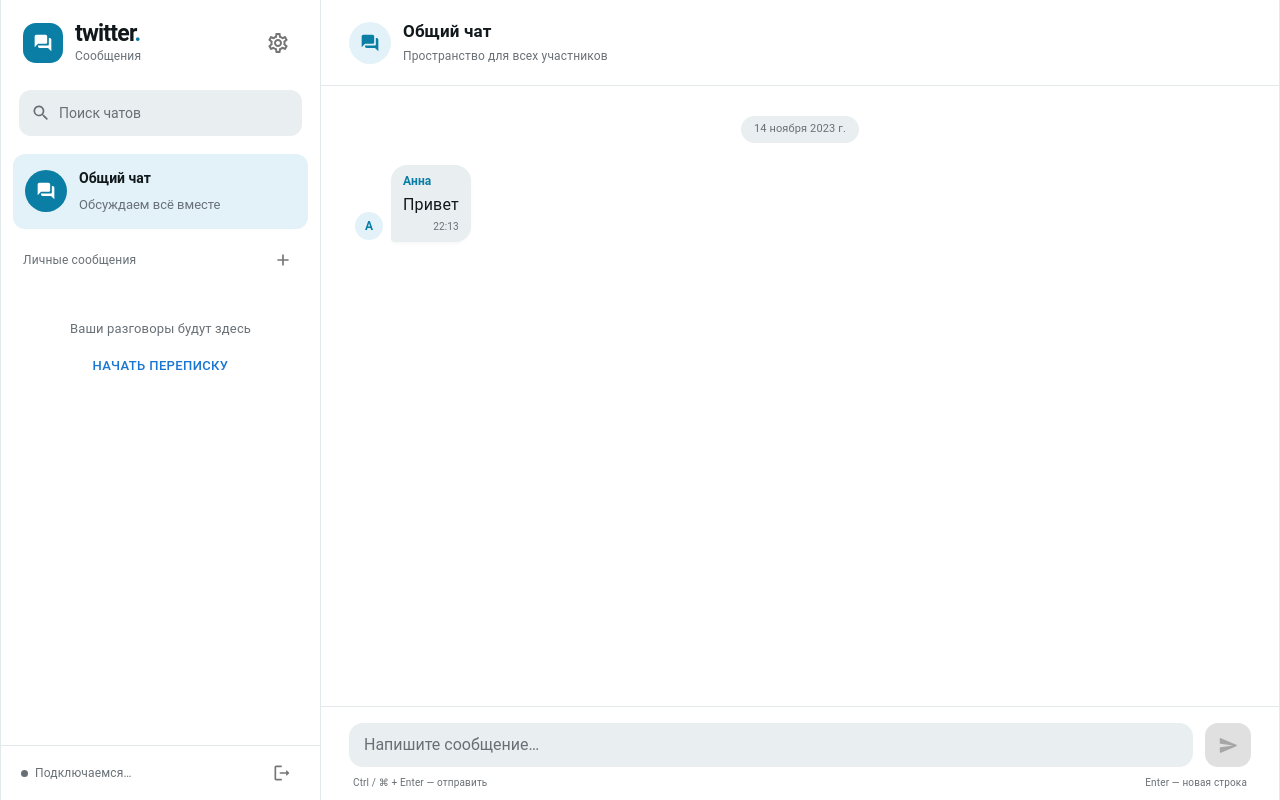
Test: shows pending messages immediately, preserves the next draft and retries a failed bubble
The image size is (1280, 800).
Check: the text "Привет" is shown, box [403,192,459,216]
Type "Сразу в чате" into the text box labelled "сообщение" at (771, 745), box [349,723,1193,767]
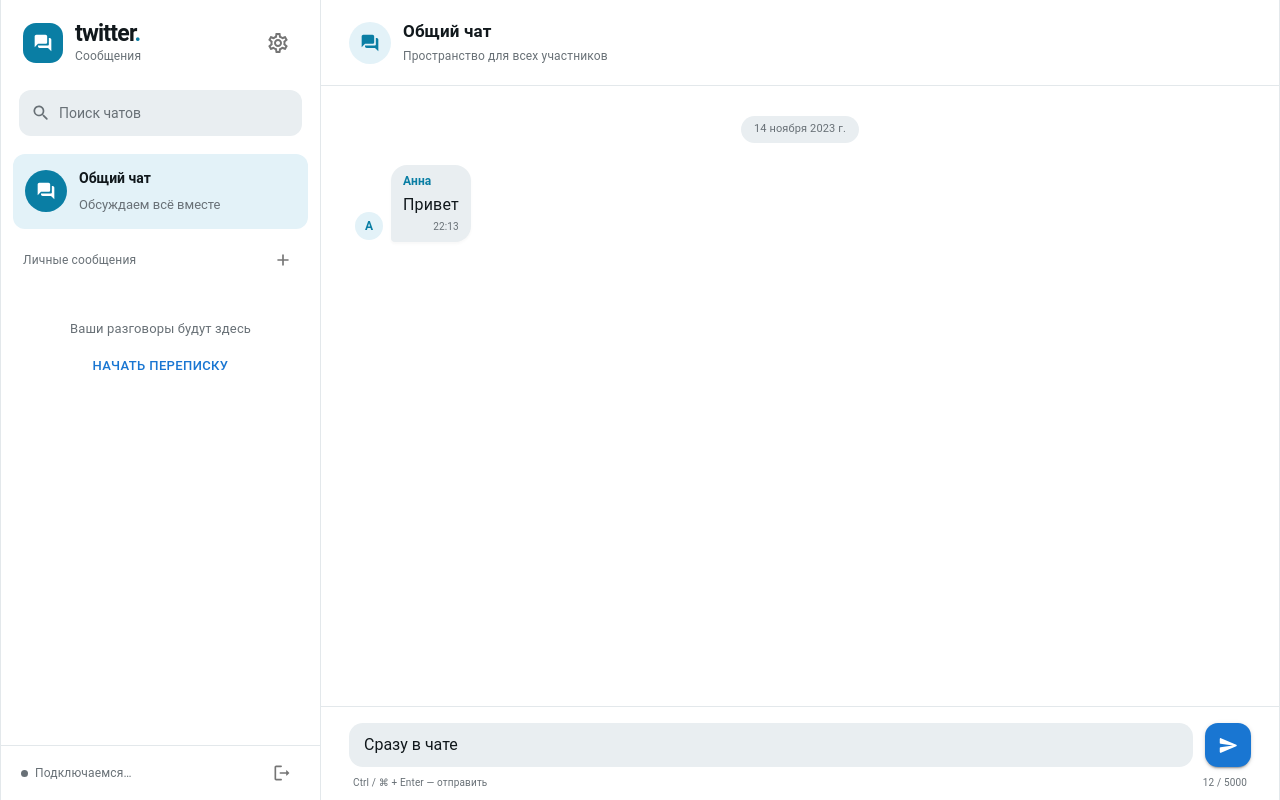
Click the button named "Отправить" at (1228, 745), box [1205,723,1251,767]
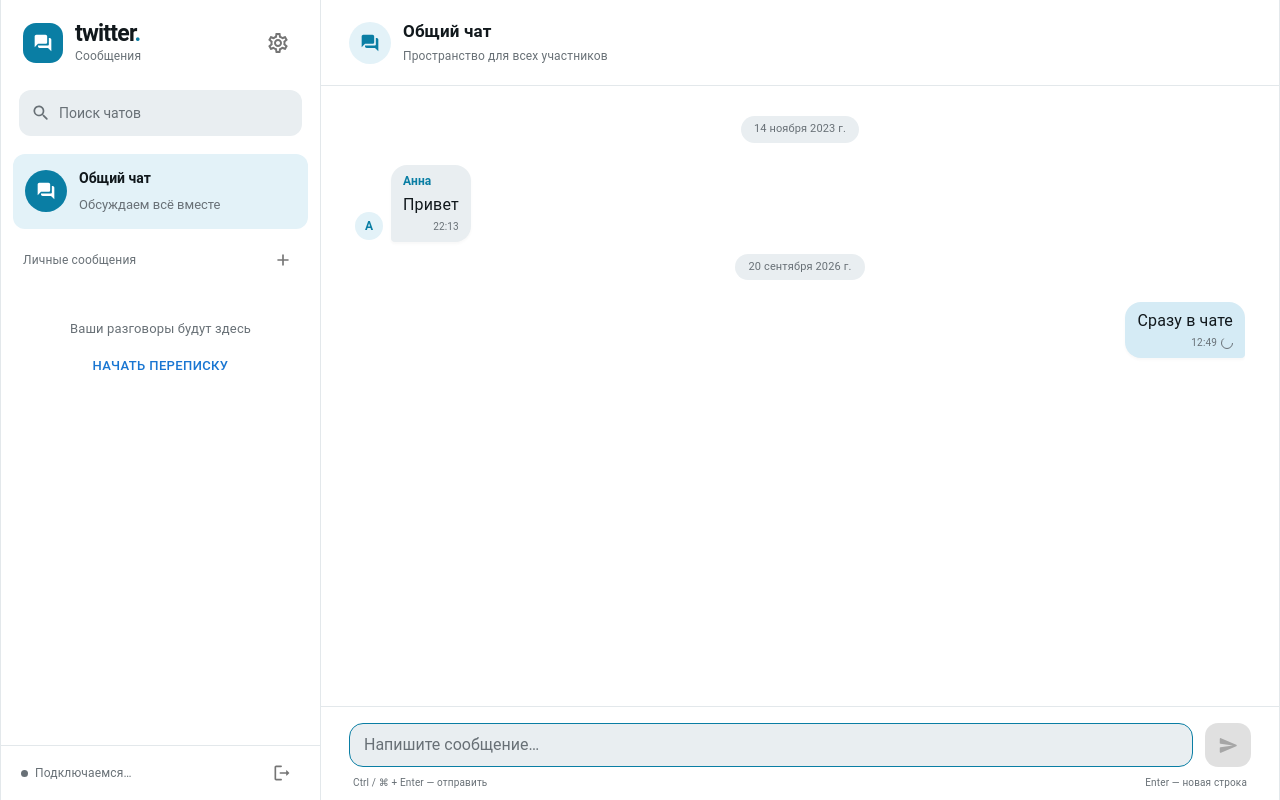
Check: the text "Сразу в чате" is shown, box [1138,309,1233,333]
Check: the message named "Отправляется" is shown, box [1221,337,1233,349]
Check: the text box labelled "сообщение" is empty
Type "Следующее сообщение" into the text box labelled "сообщение" at (771, 745), box [349,723,1193,767]
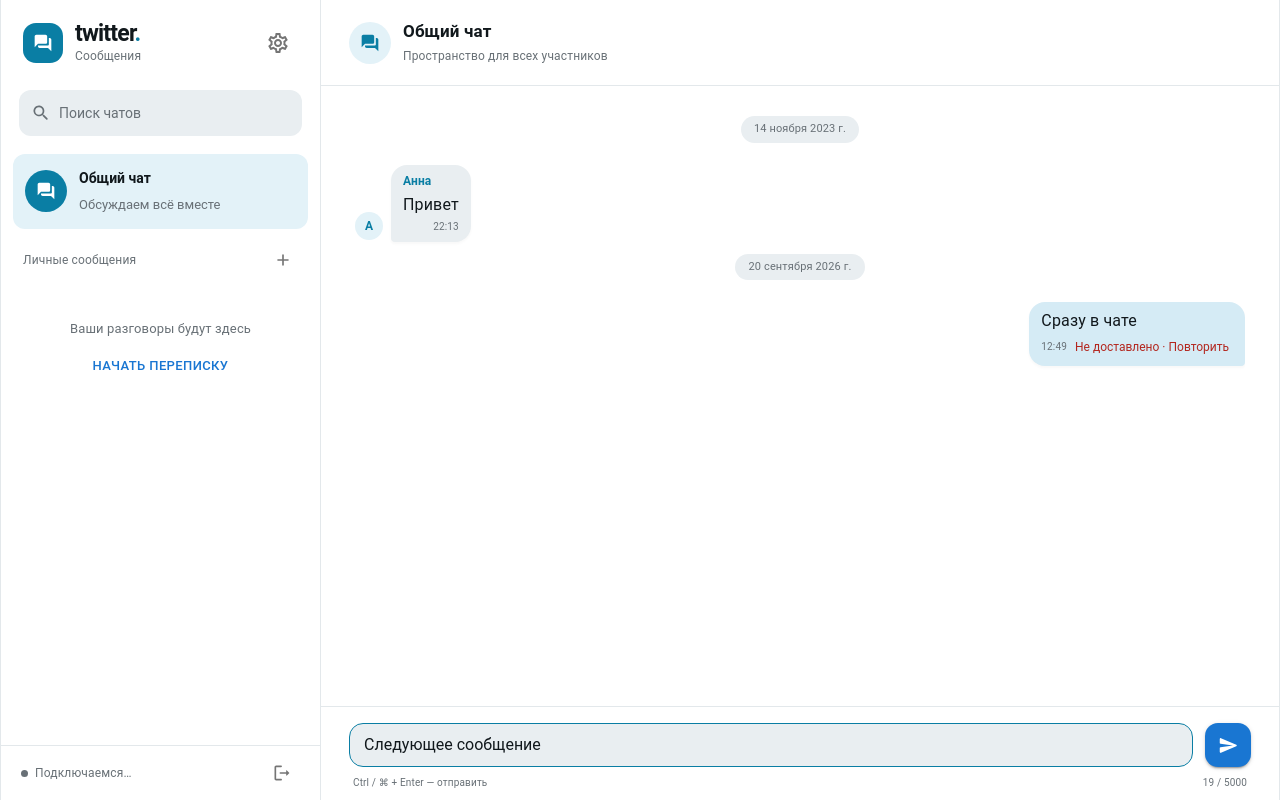
Click the button with aria-label "Не доставлено. Повторить отправку" at (1152, 347), box [1071,335,1233,359]
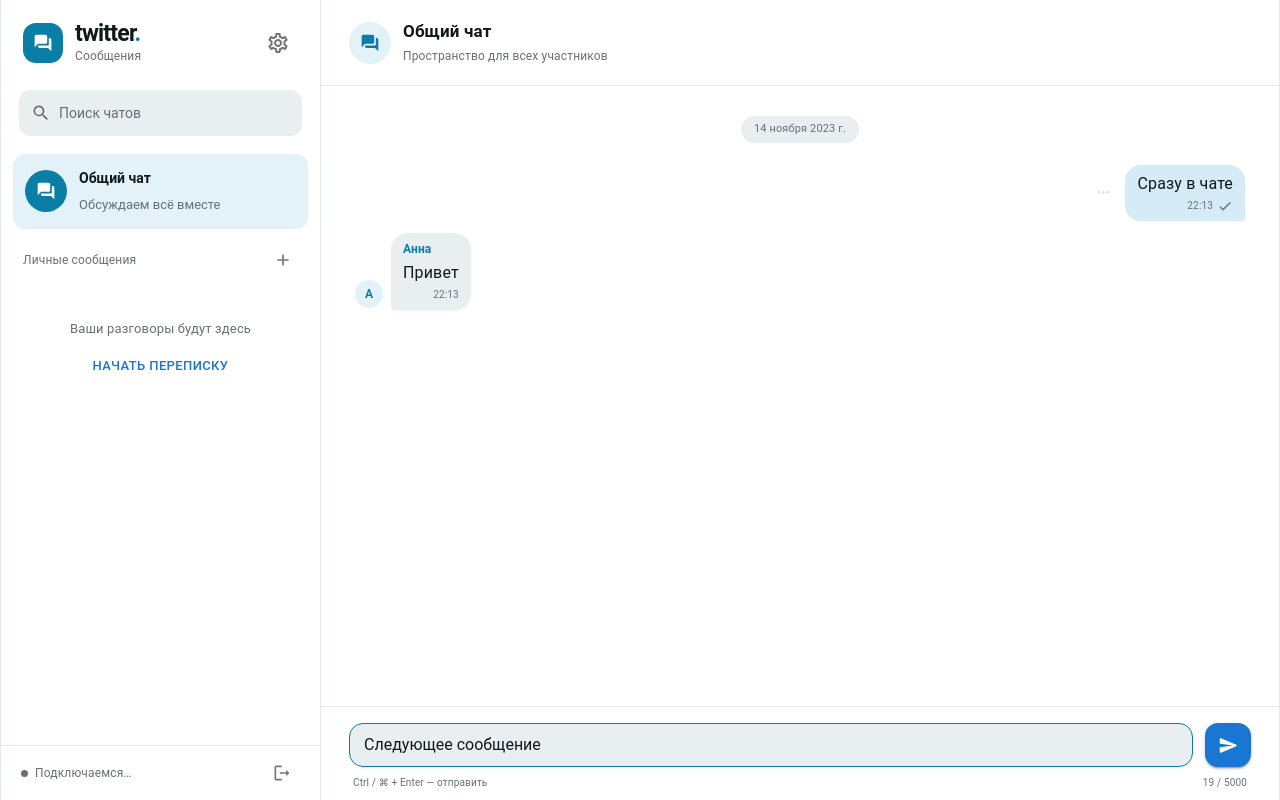
Check: the text "Сразу в чате" is shown once, box [1138,172,1233,196]
Check: the picture named "Отправлено" is shown, box [1217,198,1233,214]
